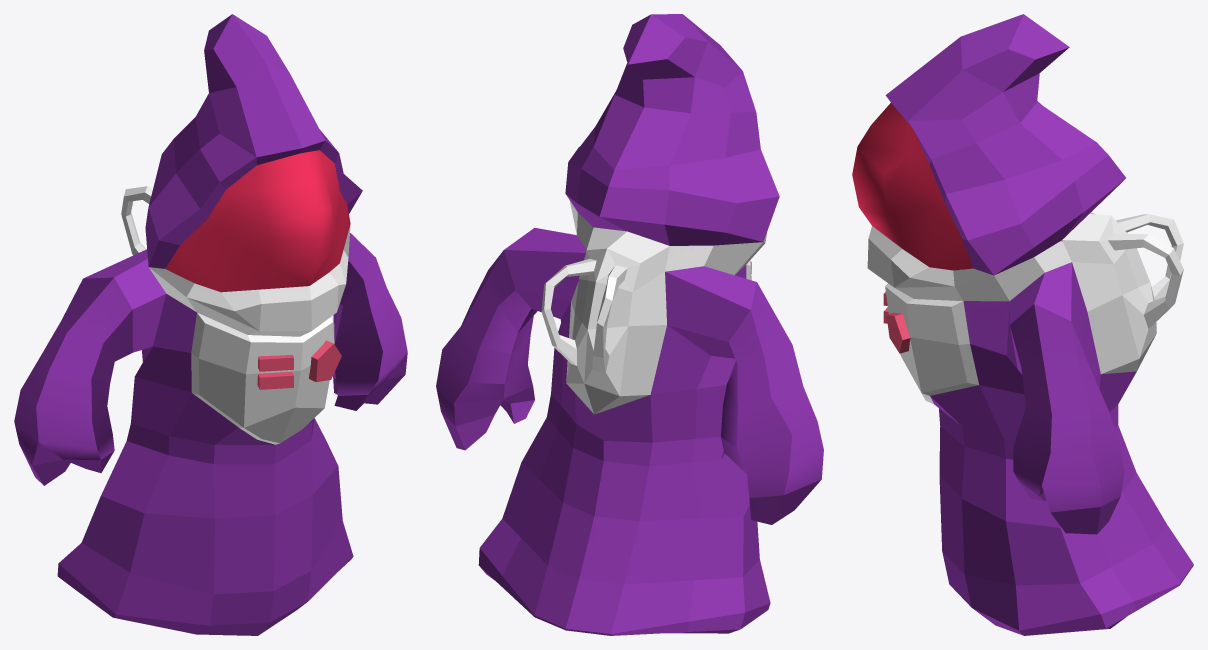
File: wizard_final.fbx
3 renders of one model, left to right at view 1: azimuth 30°, elevation 25°; view 2: azimuth 150°, elevation 25°; view 3: azimuth 270°, elevation 25°, orthographic.
Visible parts, largest first — view 1: wizardNPC_unwrapped:Mesh; view 2: wizardNPC_unwrapped:Mesh; view 3: wizardNPC_unwrapped:Mesh.
Boxes of the visible parts, x1,y1,x2,y2 form: wizardNPC_unwrapped:Mesh: [14, 14, 407, 635]; wizardNPC_unwrapped:Mesh: [436, 14, 823, 635]; wizardNPC_unwrapped:Mesh: [852, 14, 1193, 635].
Bounding box in the file's own units: 4.83 × 7.45 × 3.89.
